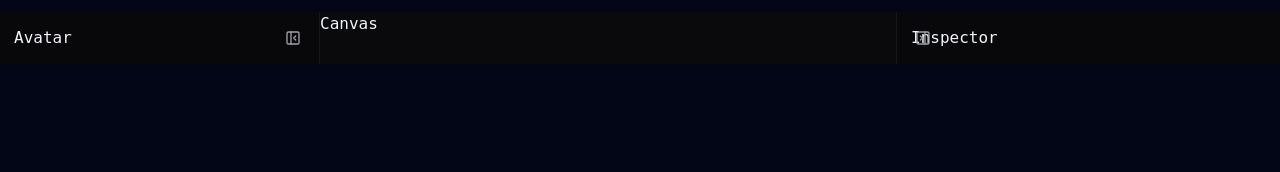
Scenario: SplitScreenLayout Component › should collapse and re-expand right inspector panel
Later steps or results of the test are not shown.
Click the button with test id "collapse-right-panel-btn" at (923, 38), box top-left (909, 24), bottom-right (937, 52)
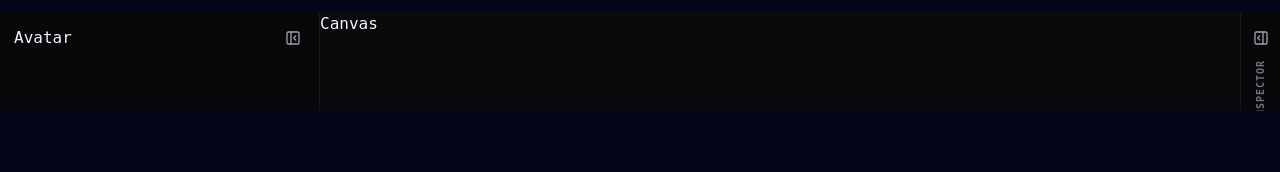
Result: the element with test id "right-inspector-panel" is gone
Result: the button with test id "expand-right-panel-btn" is shown at top-left (1246, 24), bottom-right (1274, 52)
